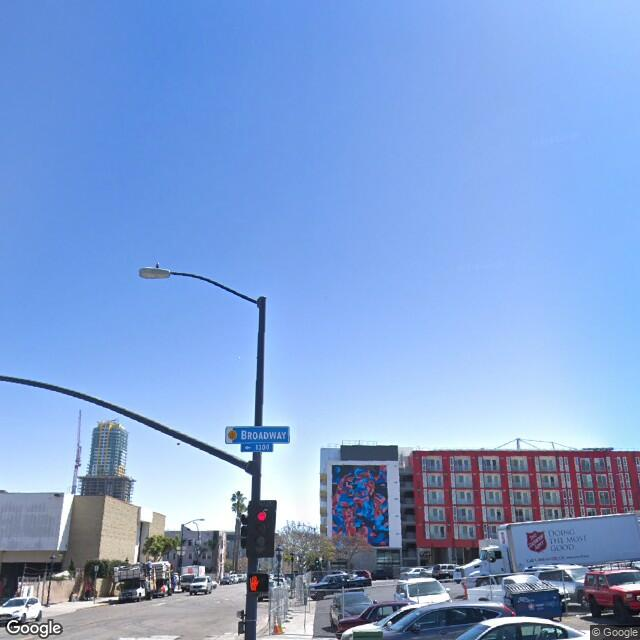light: (135, 261, 172, 278)
window: (431, 506, 446, 522), (428, 474, 443, 488)
